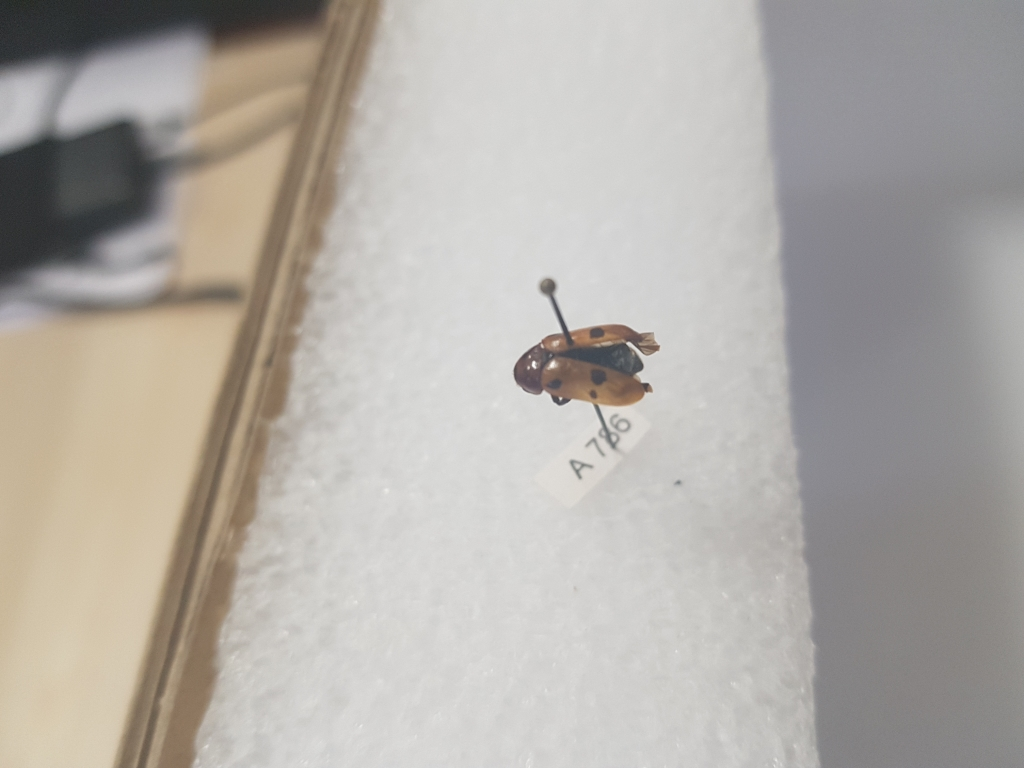Clytra_novempunctata: (514, 320, 668, 412)
